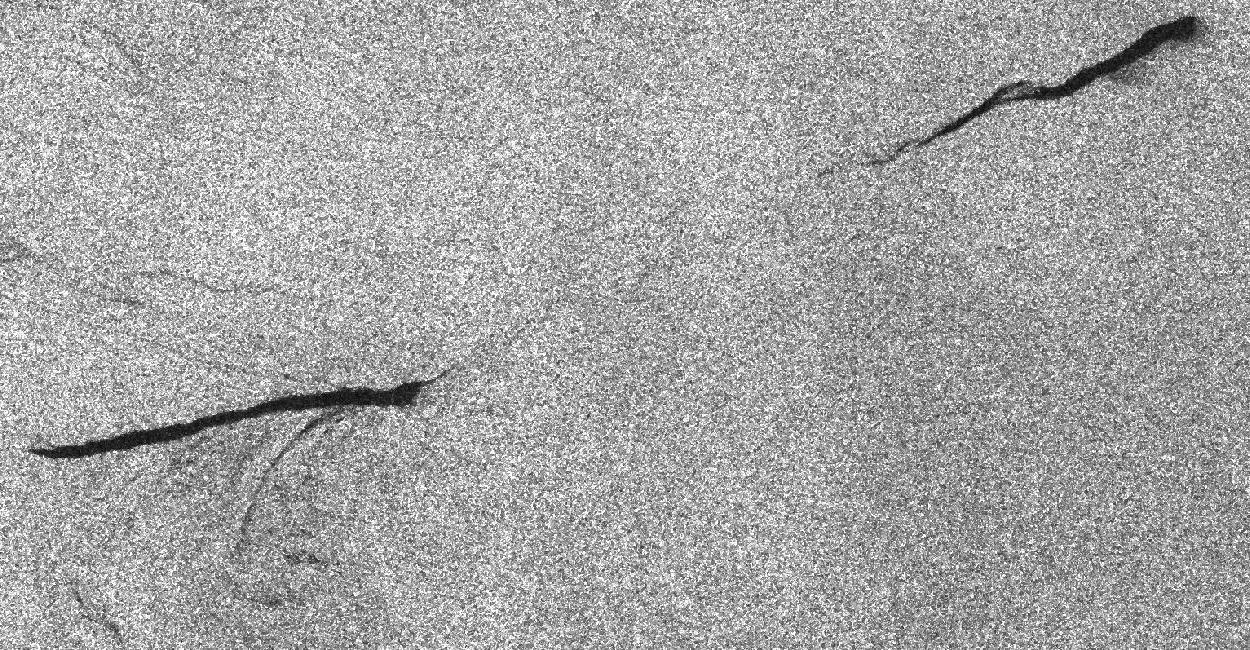Oil Spill: (868, 8, 1216, 168), (24, 366, 449, 488)
